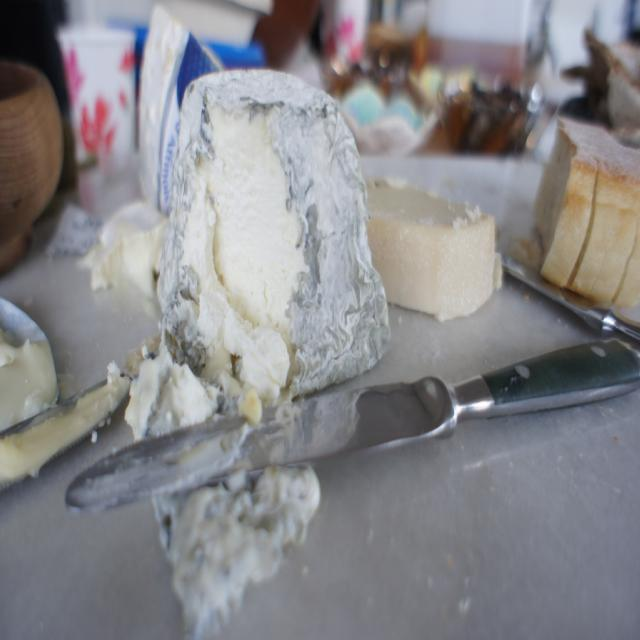Cheese: (154, 64, 393, 392), (366, 167, 496, 318)
